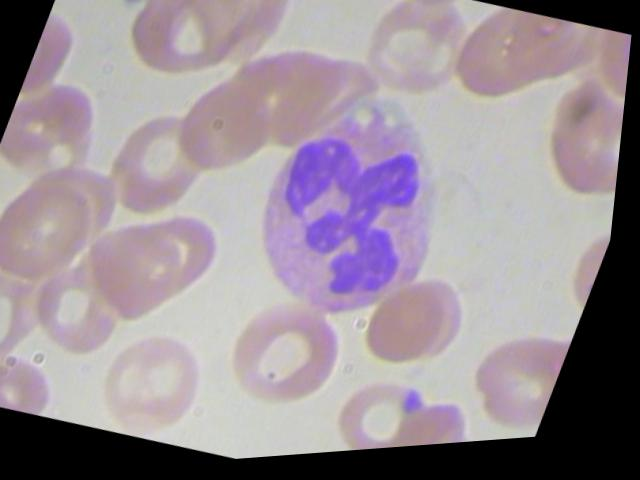Red Blood Cells: (215, 289, 368, 429), (164, 56, 296, 194), (94, 99, 225, 237), (345, 0, 487, 122), (73, 208, 209, 335), (95, 321, 228, 449), (108, 0, 267, 100), (461, 323, 583, 450), (524, 76, 630, 219), (0, 164, 111, 296), (26, 262, 142, 368), (363, 274, 469, 383), (331, 366, 453, 457), (0, 236, 68, 373), (401, 396, 491, 453)
White Blood Cells: (219, 64, 498, 358)
